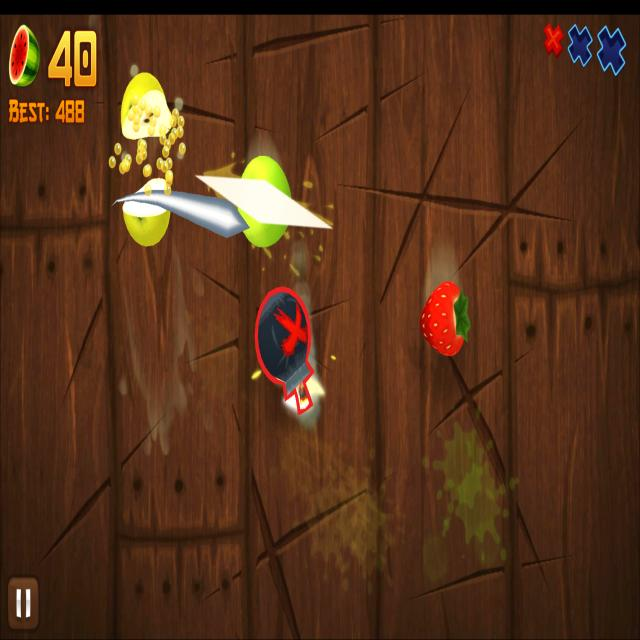bomb: (254, 285, 315, 416)
fruit: (238, 155, 292, 248), (419, 280, 465, 356)
